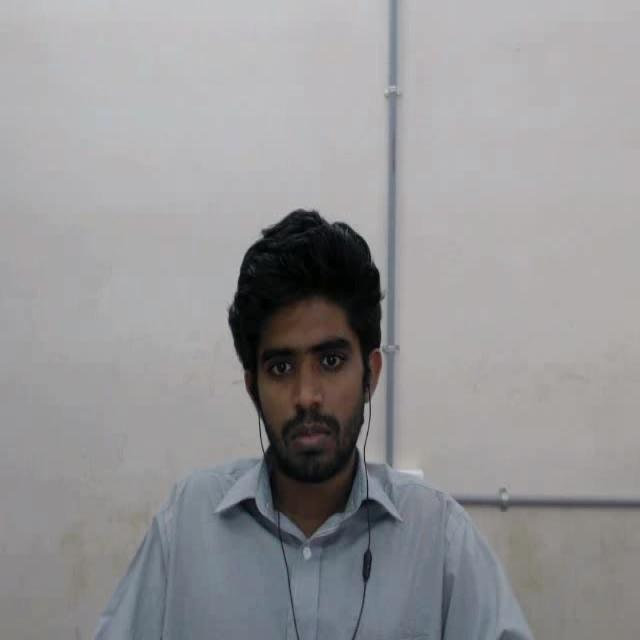Engaged: (214, 181, 408, 508)
